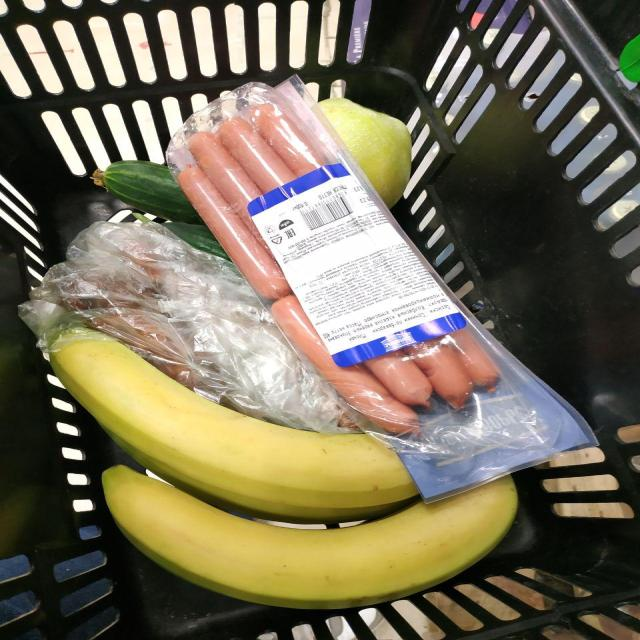Apple: (318, 99, 412, 207)
Banana: (50, 331, 418, 522), (102, 465, 517, 609)
Cucumber: (103, 161, 203, 224), (163, 222, 230, 261)
Sausages: (168, 76, 595, 501)
